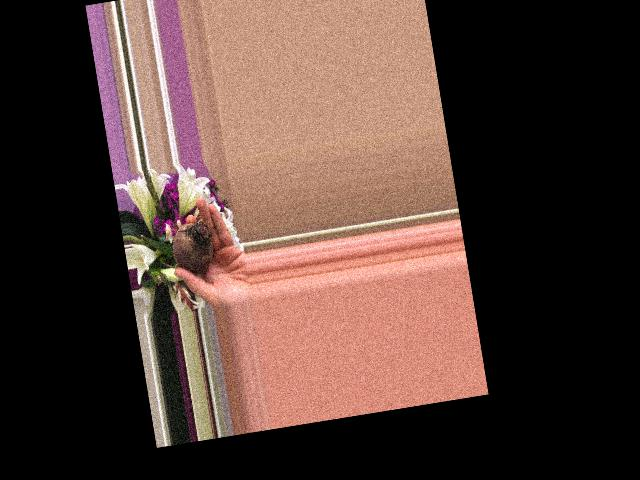beet: (156, 219, 217, 279)
